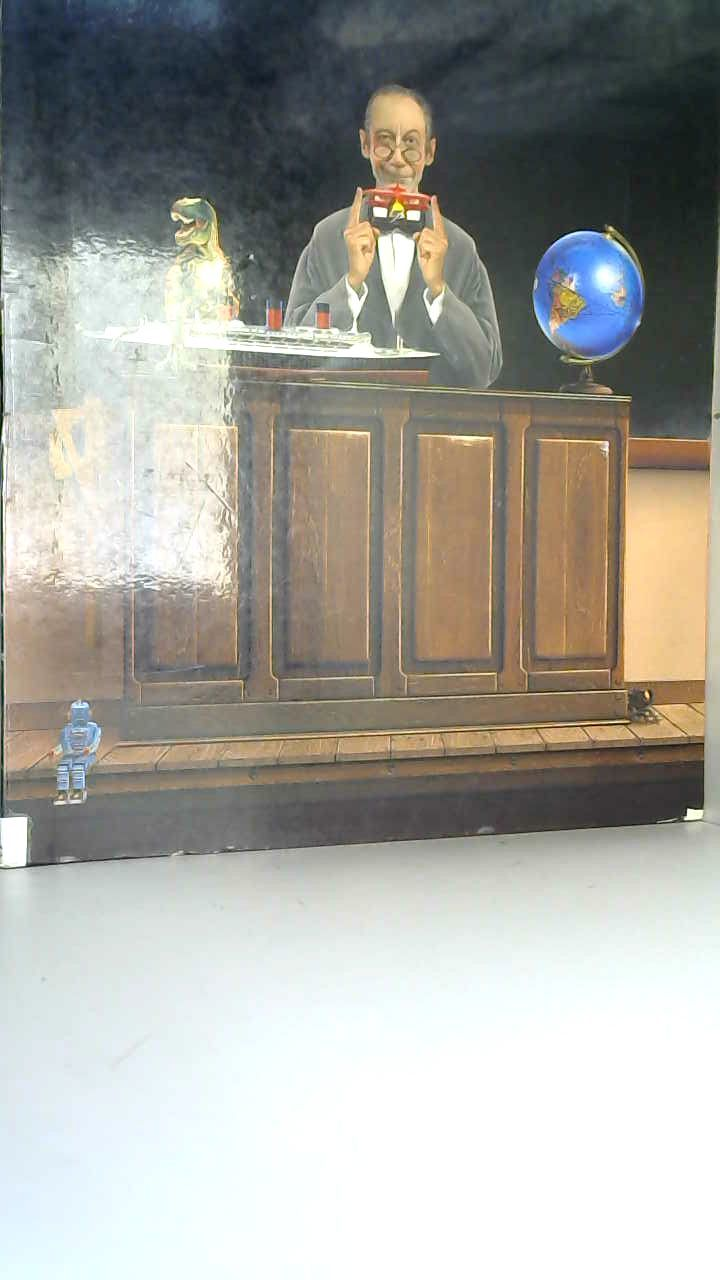book: (0, 0, 720, 876)
